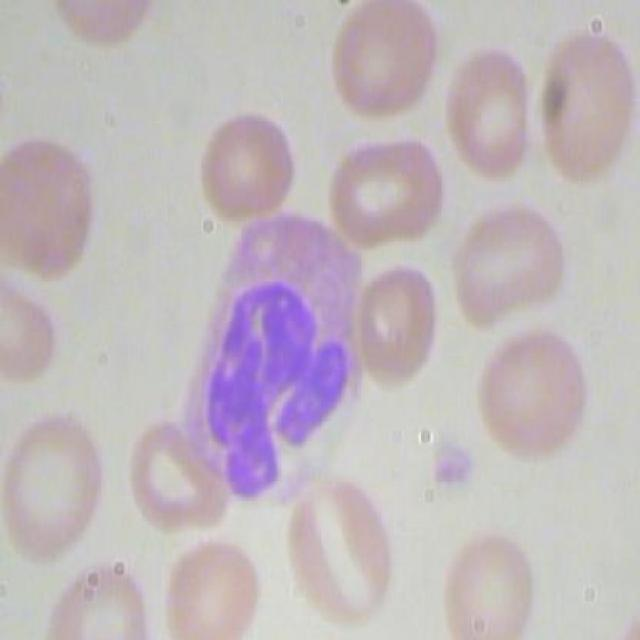RBC: (467, 313, 591, 475), (1, 136, 124, 284), (532, 26, 638, 194), (288, 468, 394, 627), (2, 406, 106, 565), (450, 200, 576, 331), (324, 123, 450, 254), (330, 260, 456, 391), (114, 409, 240, 540), (320, 1, 446, 130), (443, 42, 542, 187), (197, 96, 297, 218), (154, 540, 275, 638), (443, 520, 543, 638)
WBC: (152, 212, 377, 513)
